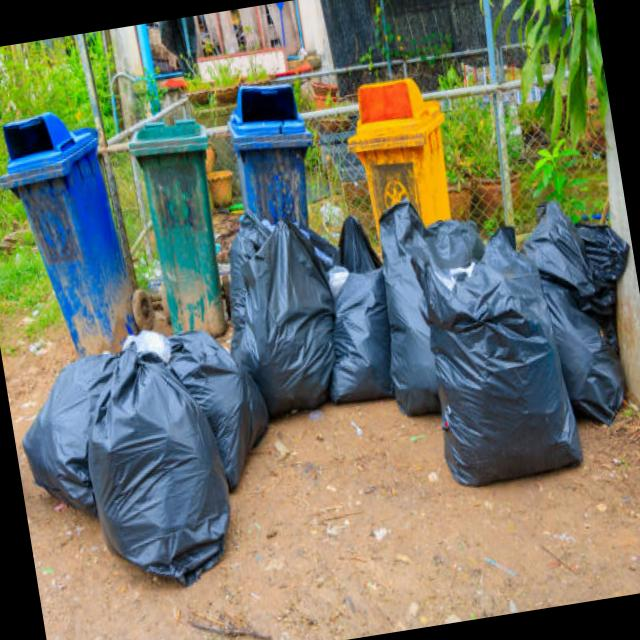garbage: (0, 162, 640, 611)
